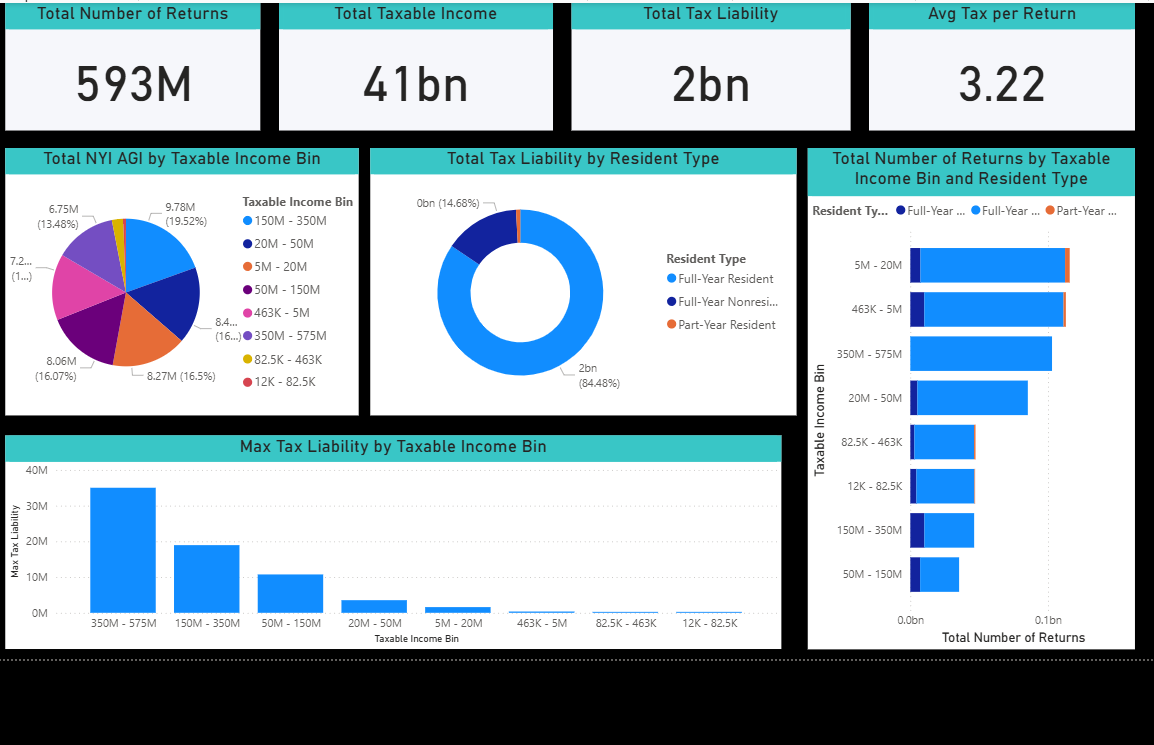

The page's visual inventory and layout, read from the dashboard file:
{"tool":"powerbi","page":{"name":"Page 1","canvas":[1280,720],"ordinal":0},"visuals":[{"type":"card","title":"Total Number of Returns","fields":{"Values":["Sheet1.total_number_of_returns"]},"box":[17.8,0,279.9,140],"z":0},{"type":"card","title":"Total Taxable Income","fields":{"Values":["Sheet1.Total Taxable Income"]},"box":[318.4,0,300.5,140],"z":1000},{"type":"card","title":"Total Tax Liability","fields":{"Values":["Sheet1.Total Tax Liability"]},"box":[639.5,0,306,140],"z":2000},{"type":"card","title":"Avg Tax per Return","fields":{"Values":["Sheet1.Avg Tax per ret"]},"box":[966,0,292.3,140],"z":3000},{"type":"clusteredColumnChart","fields":{"Y":["Sheet1.Max Tax Liability"],"Category":["Sheet1.Taxable Income Bin"]},"box":[17.8,474.8,852.1,234.6],"z":4000},{"type":"barChart","fields":{"Y":["Sheet1.Total Number of Returns"],"Series":["Sheet1.resident_type"],"Category":["Sheet1.Taxable Income Bin"]},"box":[898.8,159.2,359.5,550.3],"z":5000},{"type":"pieChart","fields":{"Category":["Sheet1.Taxable Income Bin"],"Y":["Sheet1.Total NYI AGI"]},"box":[17.8,159.2,388.3,293.7],"z":6000},{"type":"donutChart","fields":{"Category":["Sheet1.resident_type"],"Y":["Sheet1.Total Tax Liability"]},"box":[418.5,159.2,467.9,293.7],"z":6001}]}

Visuals, with their boxes in screenshot pixels (x1, y1, x2, y2):
"Total Number of Returns" card: select_region(0, 0, 247, 126)
"Total Taxable Income" card: select_region(266, 0, 543, 126)
"Total Tax Liability" card: select_region(562, 0, 844, 126)
"Avg Tax per Return" card: select_region(863, 0, 1133, 126)
clusteredColumnChart - Sheet1.Max Tax Liability x Sheet1.Taxable Income Bin: select_region(0, 435, 775, 651)
barChart - Sheet1.Total Number of Returns x Sheet1.resident_type: select_region(801, 144, 1133, 651)
pieChart - Sheet1.Taxable Income Bin x Sheet1.Total NYI AGI: select_region(0, 144, 347, 414)
donutChart - Sheet1.resident_type x Sheet1.Total Tax Liability: select_region(359, 144, 790, 414)
